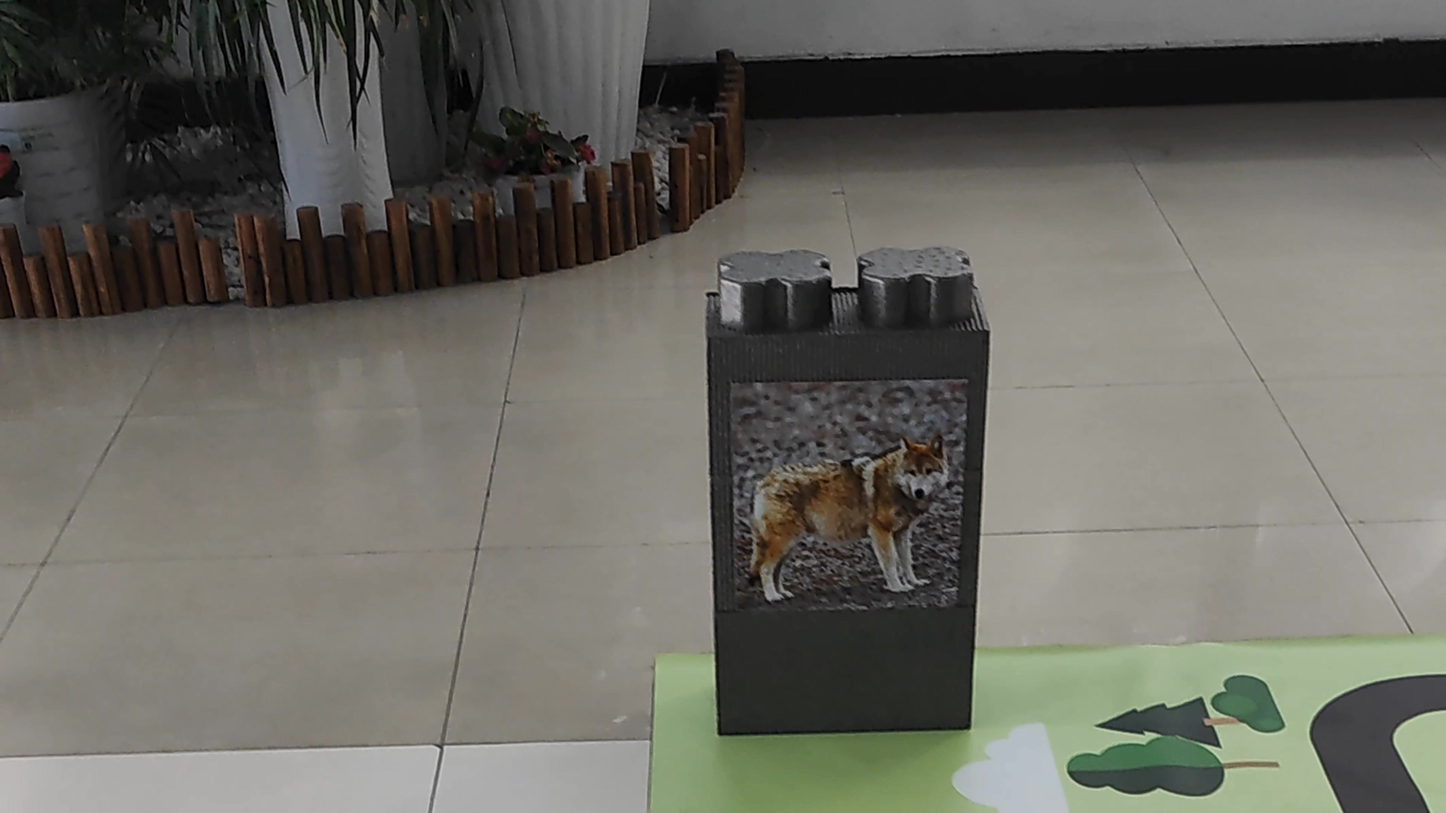wolf: (740, 392, 958, 600)
